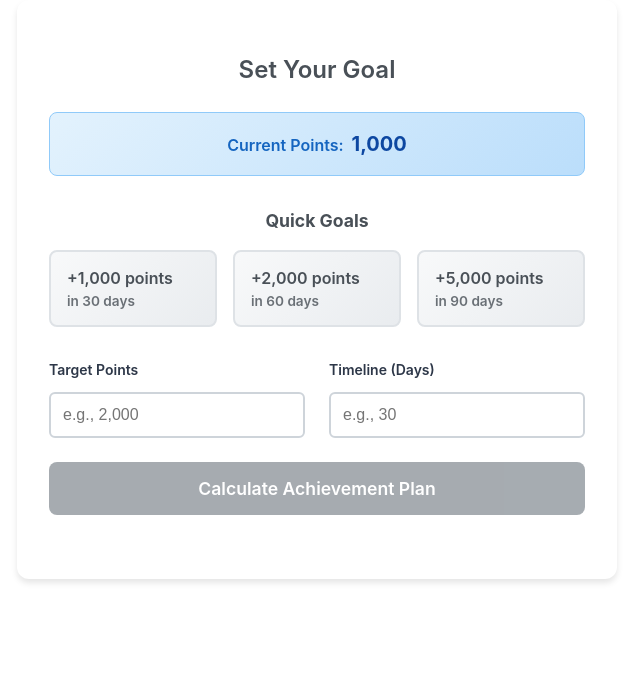
Test case: GoalCalculator Component › Preset Buttons › should set values when preset buttons are clicked
# Test +1,000 points preset
Click the button "+1,000 points in 30 days" at (133, 289), box [49,250,217,327]
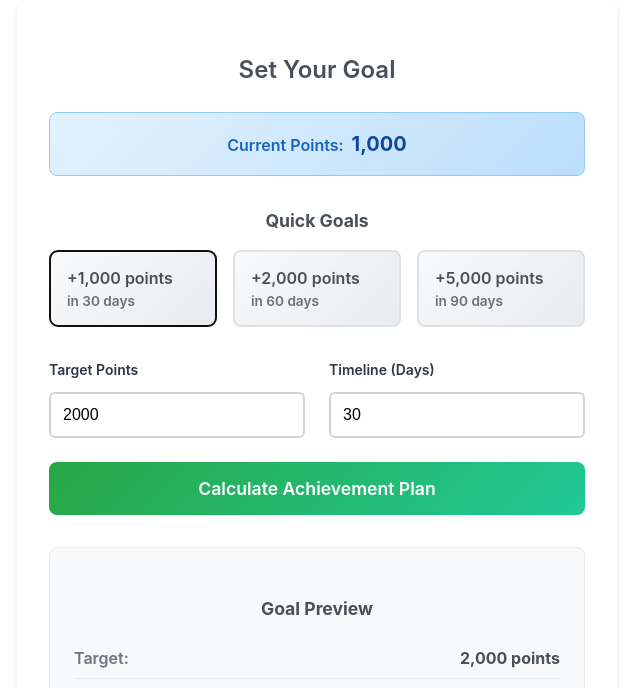
Expected: the number field labelled "Target Points" holds "2000", [49,392,305,438]
Expected: the number field labelled "Timeline (Days)" holds "30", [329,392,585,438]
# Test +2,000 points preset
Click the button "+2,000 points in 60 days" at (317, 289), box [233,250,401,327]
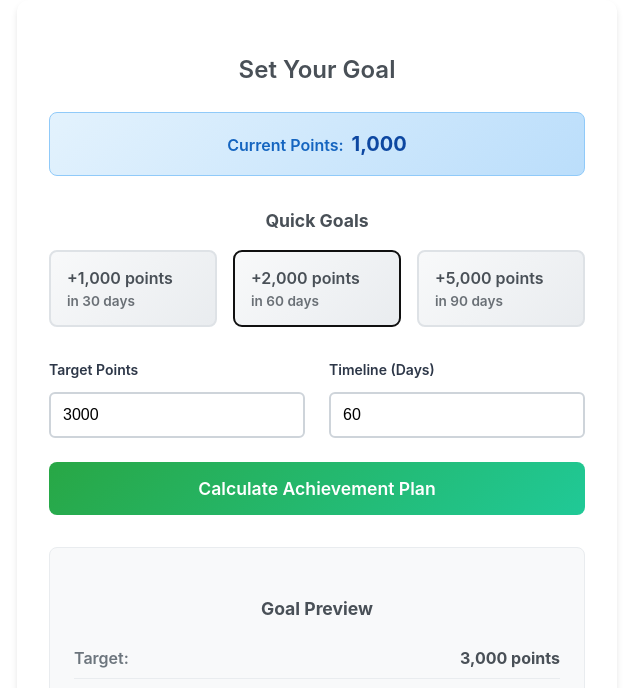
Expected: the number field labelled "Target Points" holds "3000", [49,392,305,438]
Expected: the number field labelled "Timeline (Days)" holds "60", [329,392,585,438]
# Test +5,000 points preset
Click the button "+5,000 points in 90 days" at (501, 289), box [417,250,585,327]
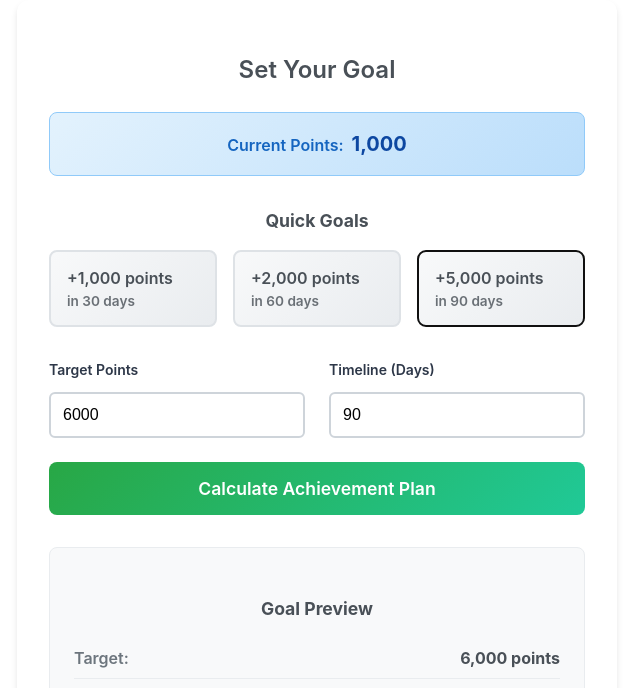
Expected: the number field labelled "Target Points" holds "6000", [49,392,305,438]
Expected: the number field labelled "Timeline (Days)" holds "90", [329,392,585,438]
